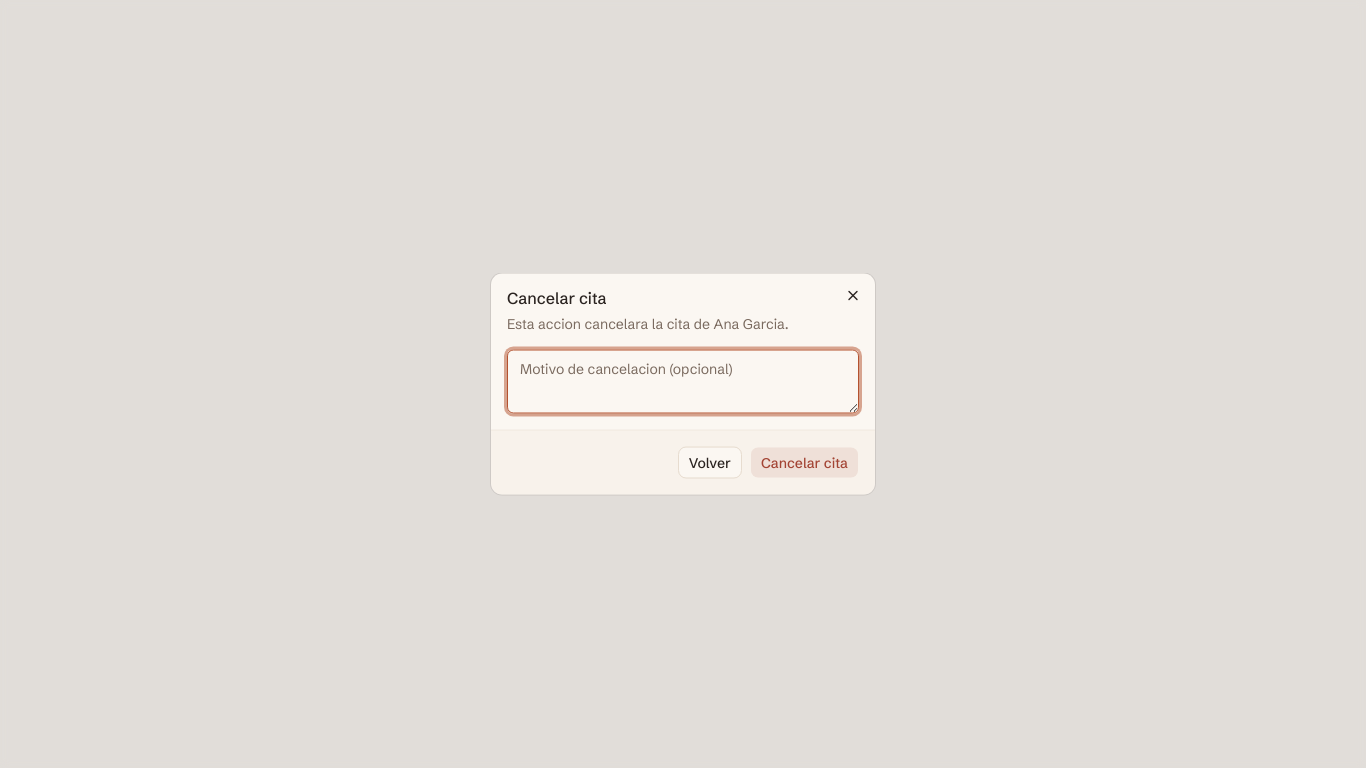
Test case: CancelAppointmentDialog › REGRESION: si la mutacion falla, el dialogo no se cierra y muestra el error (HALLAZGO 2)
Click the button "Cancelar cita": [804, 462] box [750,446,859,478]
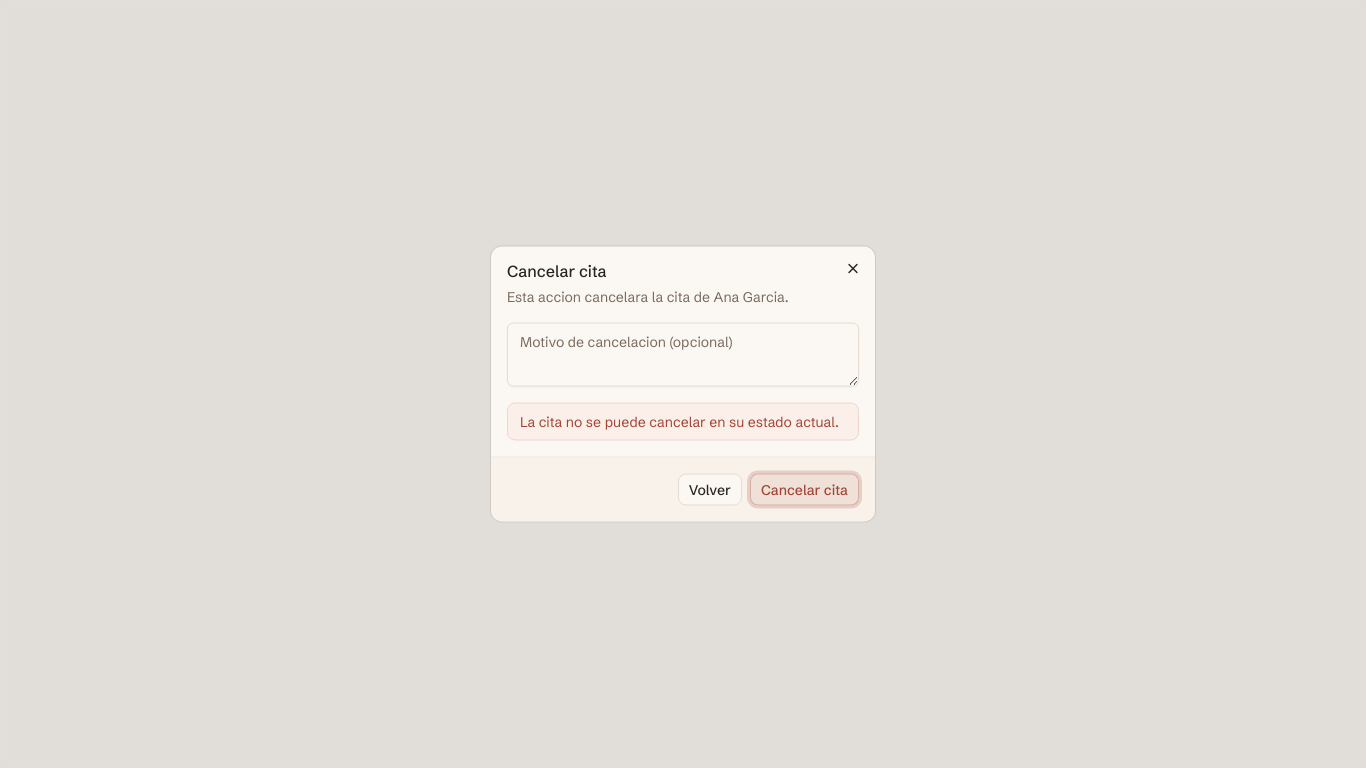
Now the message reads "La cita no se puede cancelar en su estado actual.", box [520,412,839,430]
